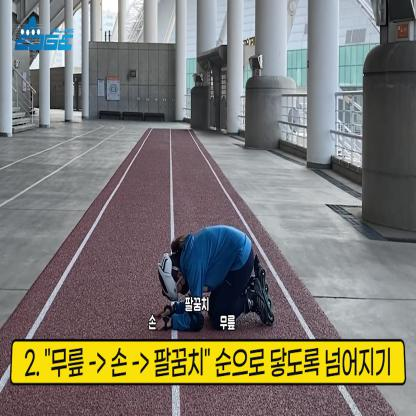Fall_Down: (153, 225, 268, 334)
